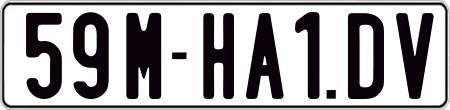1: (293, 12, 320, 103)
5: (26, 11, 65, 102)
9: (71, 11, 113, 100)
A: (243, 10, 286, 97)
D: (345, 10, 387, 98)
H: (202, 12, 234, 104)
M: (126, 12, 163, 103)
V: (395, 12, 434, 98)
